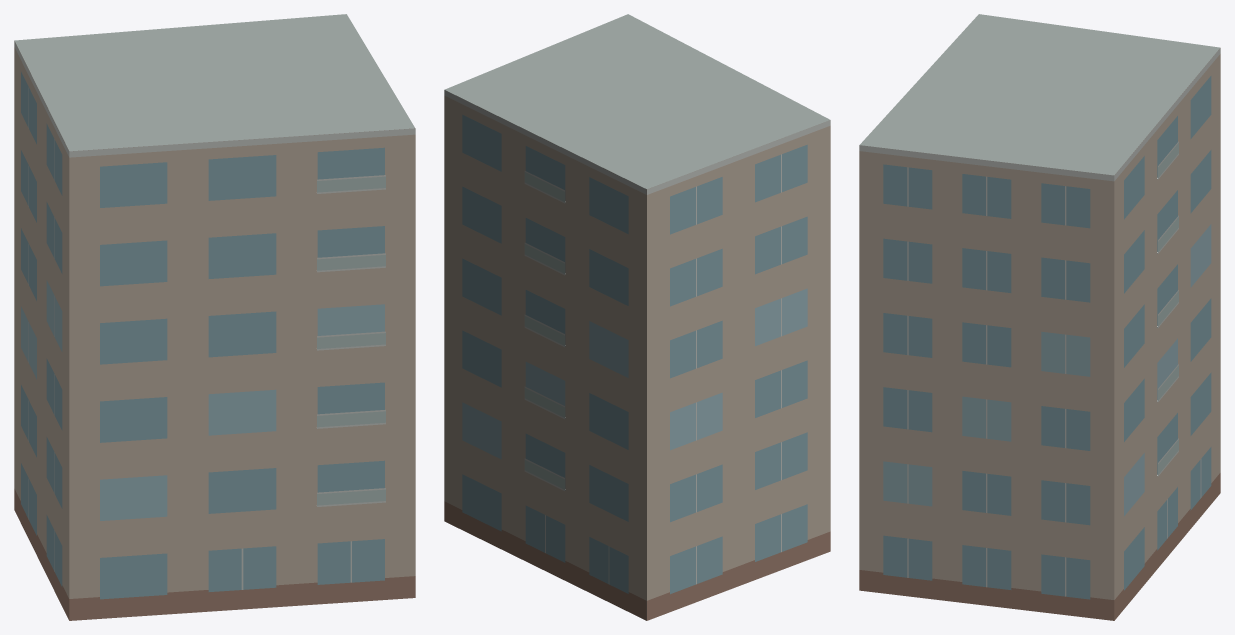
The model's file is survey-upis-32878274.glb.
The picture shows the model from 3 angles, left to right: view 1: azimuth 30°, elevation 25°; view 2: azimuth 150°, elevation 25°; view 3: azimuth 270°, elevation 25°; orthographic projection. The views are drawn at different scales.
Visible parts, largest first — view 1: survey-upis-32878274.tmp; view 2: survey-upis-32878274.tmp; view 3: survey-upis-32878274.tmp.
Boxes of the visible parts, <box> form: survey-upis-32878274.tmp: <box>14,14,415,620</box>; survey-upis-32878274.tmp: <box>444,14,830,620</box>; survey-upis-32878274.tmp: <box>859,14,1220,620</box>.
Bounding box in the file's own units: 14.24 × 18.3 × 13.46.
